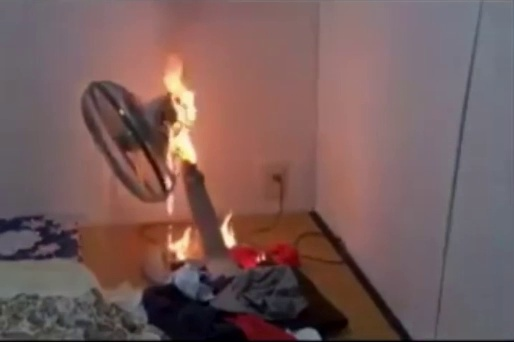fire: (157, 57, 210, 173)
